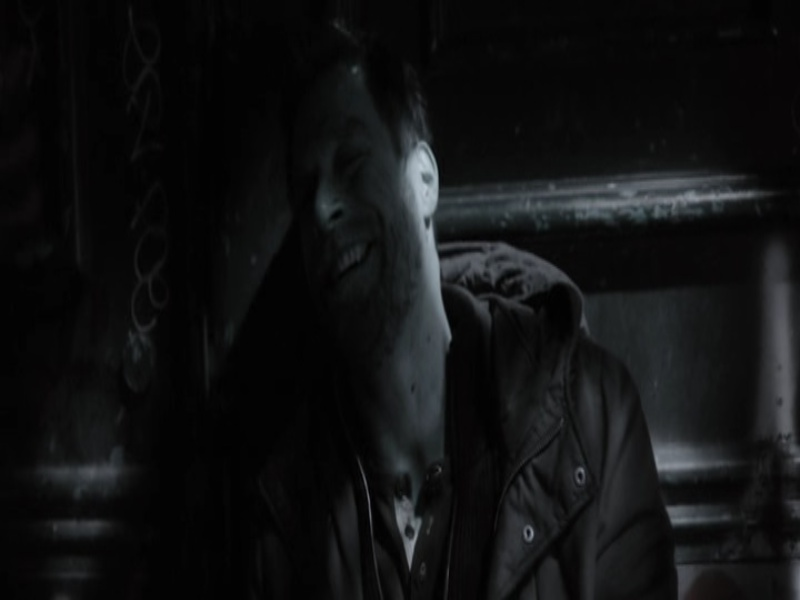TsisyArotava: (274, 90, 426, 360)
